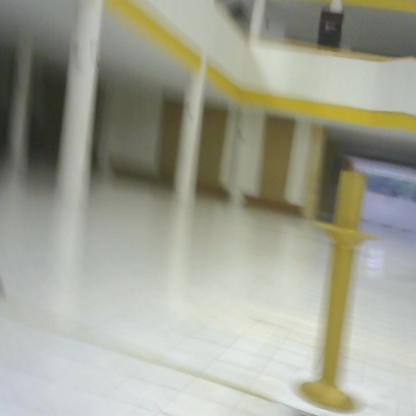pole: (301, 166, 384, 416)
